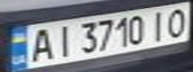0: (127, 12, 151, 45)
1: (112, 15, 133, 47)
3: (75, 19, 100, 54)
7: (93, 17, 115, 52)
A: (24, 26, 57, 63)
I: (48, 23, 75, 57), (145, 8, 172, 41)
O: (163, 4, 193, 38)
